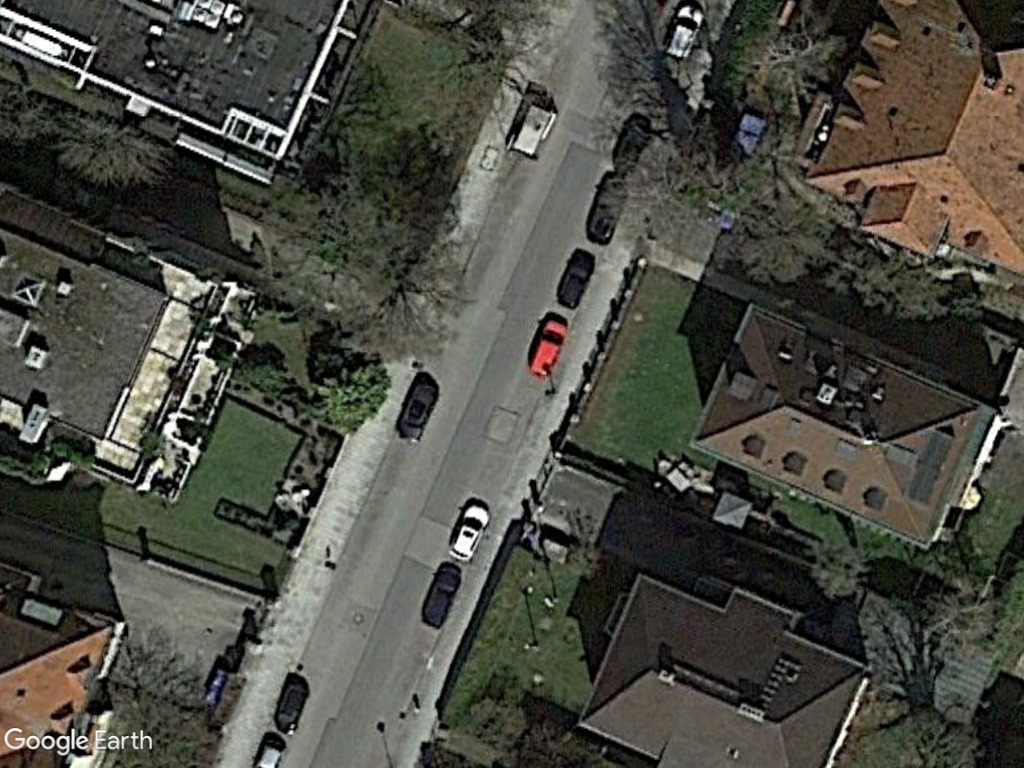car: (446, 502, 493, 565), (527, 317, 570, 383)
